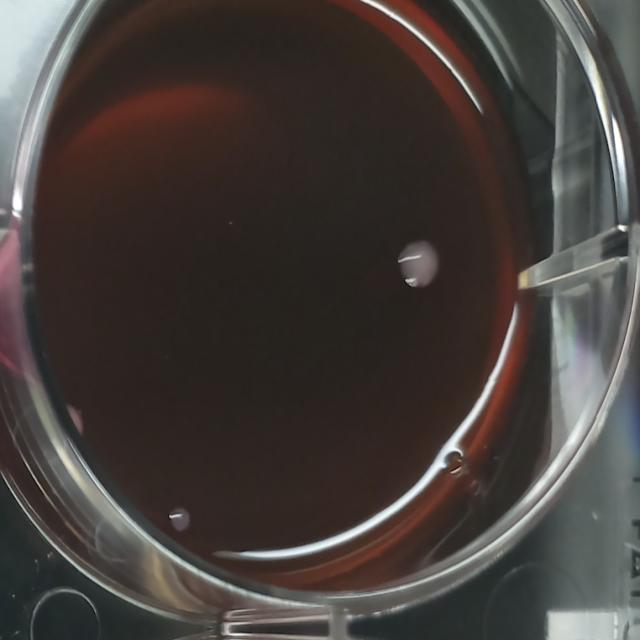Bacillus: (393, 230, 446, 296)
